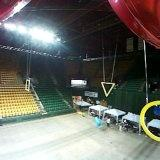Yellow_Circle_GShape: (140, 100, 160, 142)
Yellow_Square_GShape: (24, 80, 30, 92)
Yellow_Triangle_Gshape: (101, 82, 114, 96)
